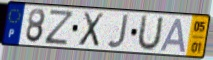8: (24, 7, 47, 45)
A: (159, 17, 187, 54)
J: (106, 13, 131, 50)
U: (135, 13, 165, 52)
X: (77, 11, 106, 49)
Z: (43, 8, 76, 47)
